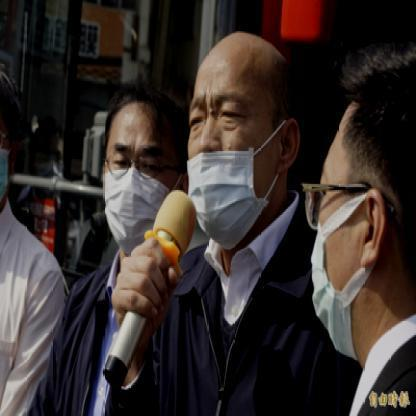mask_weared_incorrect: (187, 82, 283, 250)
with_mask: (300, 153, 368, 362), (102, 134, 182, 256)
